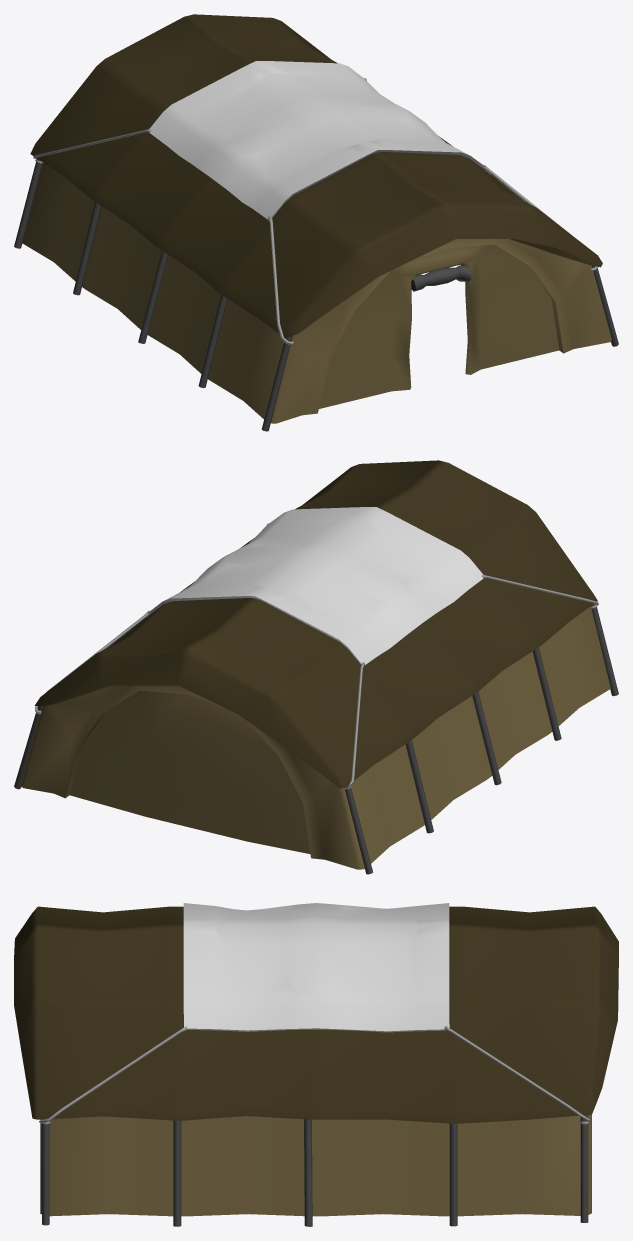
Rendered from ds_tent_a.glb.
The picture shows the model from 3 angles, top to bottom: view 1: azimuth 30°, elevation 25°; view 2: azimuth 150°, elevation 25°; view 3: azimuth 270°, elevation 25°; orthographic projection. The views are drawn at different scales.
Parts seen in each view (by area): view 1: ds_tent_a; view 2: ds_tent_a; view 3: ds_tent_a.
Boxes of the visible parts, x1,y1,x2,y2 form: ds_tent_a: (14,14,618,431); ds_tent_a: (14,460,618,874); ds_tent_a: (14,903,618,1226).
Bounding box in the file's own units: 6.98 × 3.54 × 9.25.
